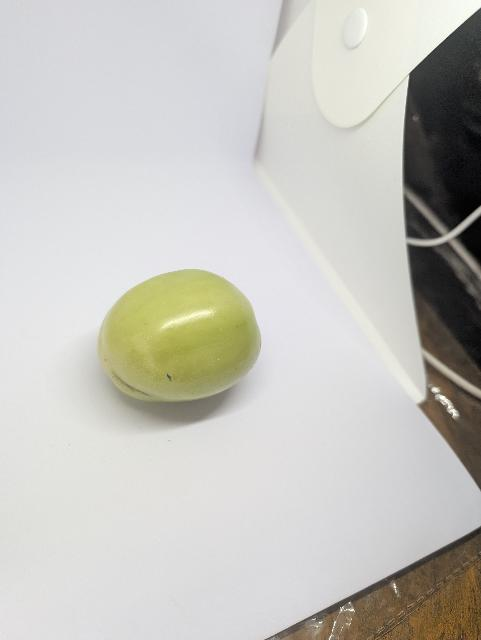green: (96, 268, 265, 406)
